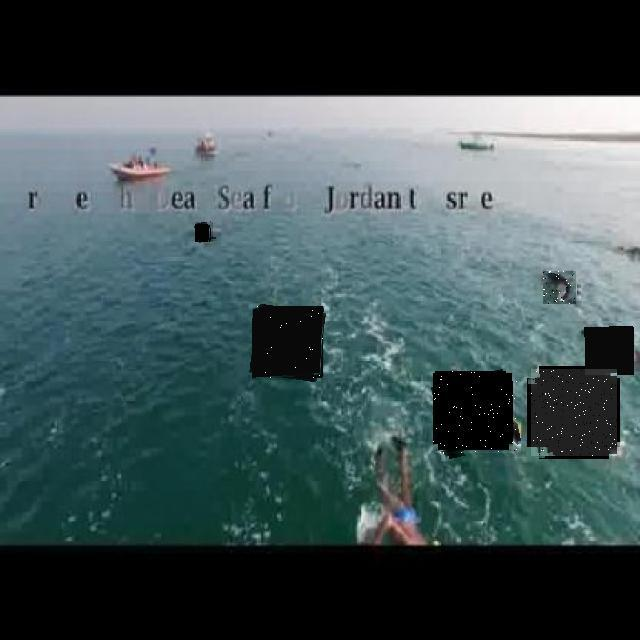swimming: (531, 369, 617, 456), (433, 372, 518, 456), (252, 306, 324, 380), (585, 327, 634, 375), (543, 271, 576, 304), (196, 222, 216, 242)
